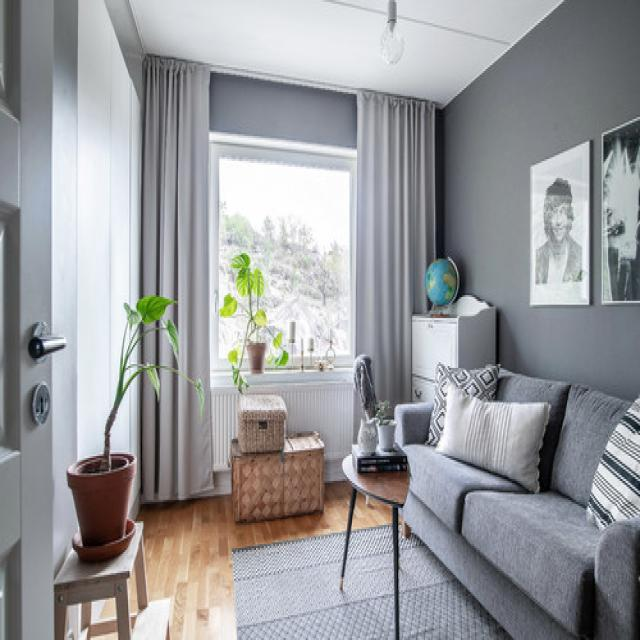modern desk: (340, 433, 414, 640)
modern sofa: (387, 360, 638, 640)
